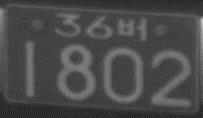0: (101, 45, 144, 105)
1: (15, 41, 47, 97)
2: (150, 49, 191, 107)
3: (54, 11, 81, 38)
6: (85, 14, 113, 40)
8: (54, 42, 97, 101)
버: (115, 16, 147, 40)
